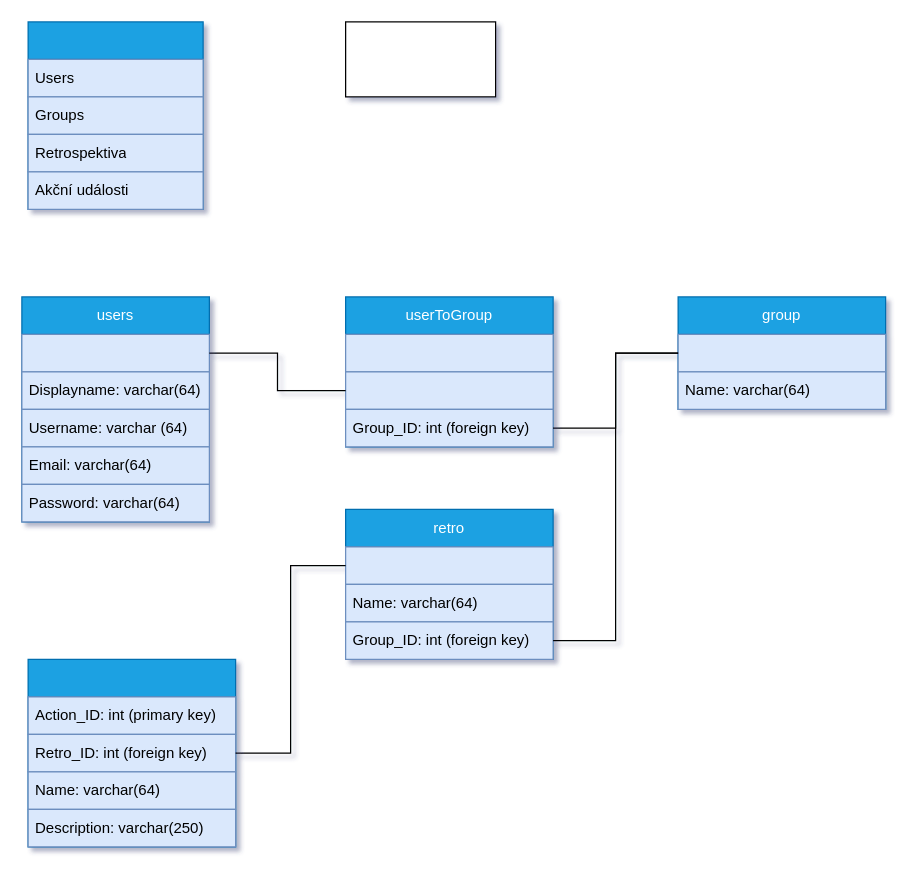
Image size: 915x876. Some labels were removed from this diagram. Each missing label, with the box of its shape:
actions: (27, 658, 236, 847)
Databáze: (344, 21, 496, 97)
Group_ID: int (primary key): (677, 333, 886, 372)
Retro_ID: int (primary key): (344, 546, 553, 584)
Tables: (27, 21, 203, 209)
User_ID: int (foreign key): (344, 371, 553, 409)
User_ID: int (primary key): (21, 333, 209, 372)
UTG_ID: int (primary): (344, 333, 553, 372)
